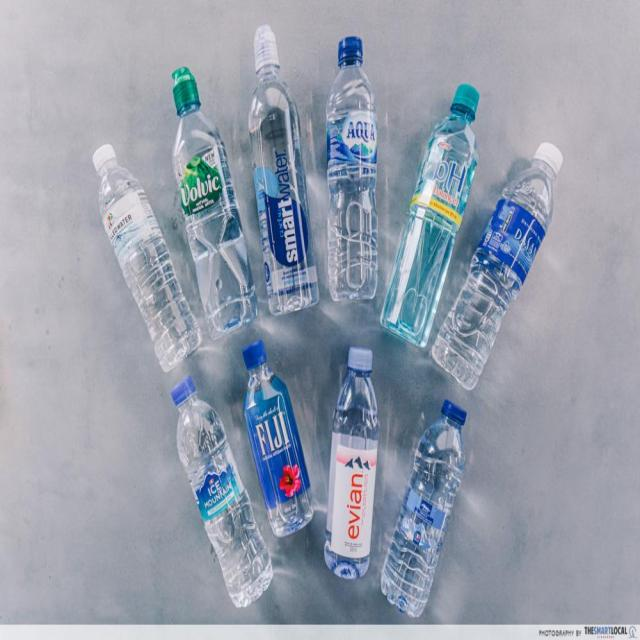plastic bottle: (430, 160, 562, 392), (378, 111, 480, 352), (99, 162, 204, 376), (172, 402, 275, 610), (168, 105, 258, 338), (244, 66, 322, 318), (381, 416, 465, 618), (326, 63, 380, 305), (241, 364, 316, 538), (322, 369, 380, 581)
plastic bottle cap: (252, 26, 280, 78), (533, 139, 564, 180), (450, 82, 480, 121), (173, 78, 201, 115), (345, 342, 374, 376), (91, 141, 119, 175), (242, 336, 268, 370), (170, 373, 196, 407), (337, 34, 364, 66), (443, 396, 468, 428)
